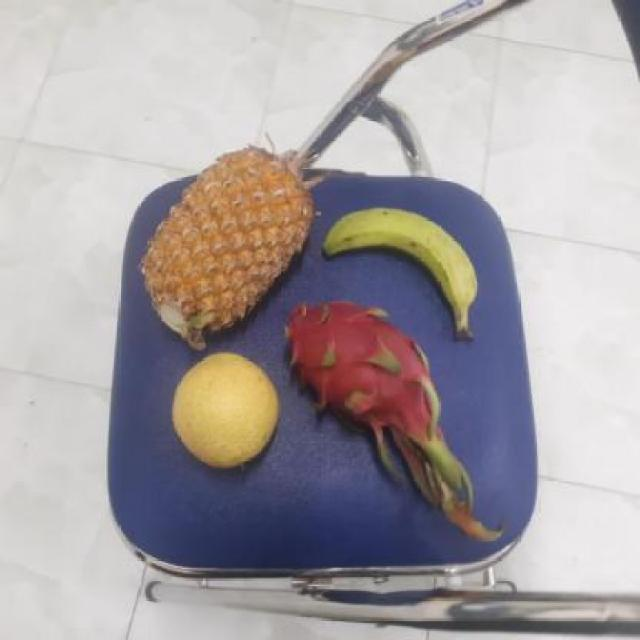banana: (317, 206, 478, 331)
dragon fruit: (273, 302, 442, 446)
pear: (166, 354, 282, 474)
pineapple: (135, 147, 310, 347)
